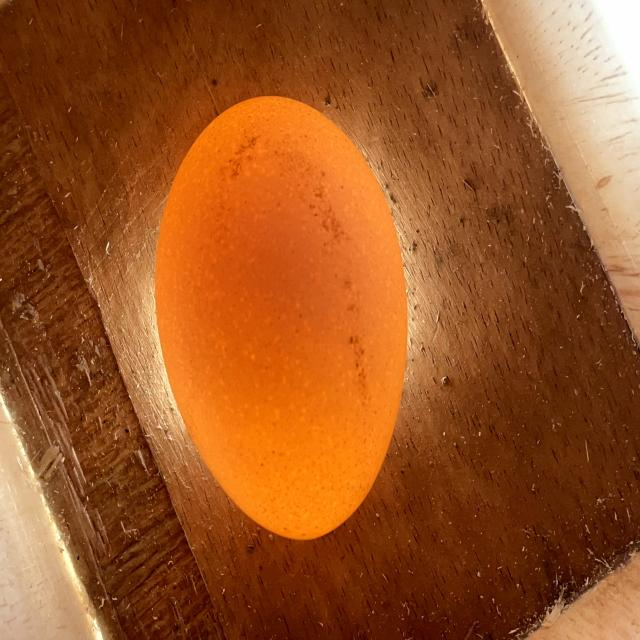infertile: (155, 97, 407, 540)
